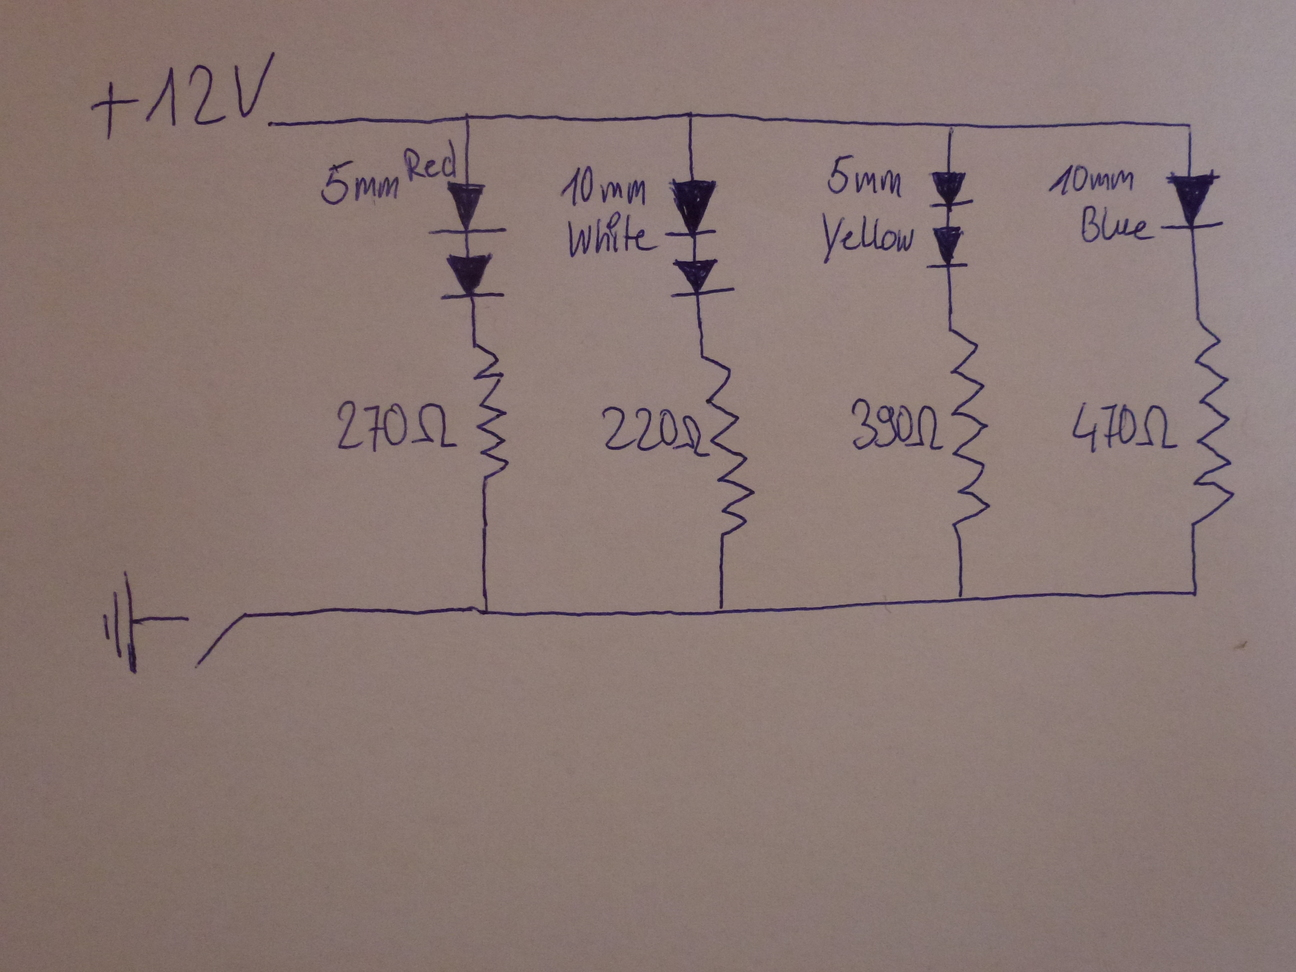diode: (421, 178, 510, 238), (1157, 164, 1229, 233), (437, 245, 510, 305), (662, 174, 722, 241), (668, 253, 734, 300), (926, 220, 973, 273), (924, 169, 976, 211)
gnd: (94, 564, 149, 678)
junction: (468, 583, 504, 629), (706, 593, 737, 623), (1179, 576, 1207, 607), (945, 585, 974, 615), (682, 107, 699, 121), (459, 109, 475, 124), (943, 119, 958, 132), (1181, 118, 1195, 131)
resistor: (694, 352, 759, 539), (1186, 314, 1238, 528), (943, 324, 993, 529), (469, 333, 515, 491)
switch: (176, 609, 253, 671)
terminal: (258, 114, 288, 134)
text: (84, 46, 281, 143), (327, 397, 453, 457), (847, 396, 947, 463), (1065, 398, 1173, 459), (598, 401, 701, 459), (815, 210, 914, 259), (315, 156, 404, 208), (566, 208, 660, 257), (825, 152, 903, 206), (558, 164, 648, 211), (1078, 203, 1154, 245), (1046, 163, 1137, 197), (401, 135, 459, 185)
